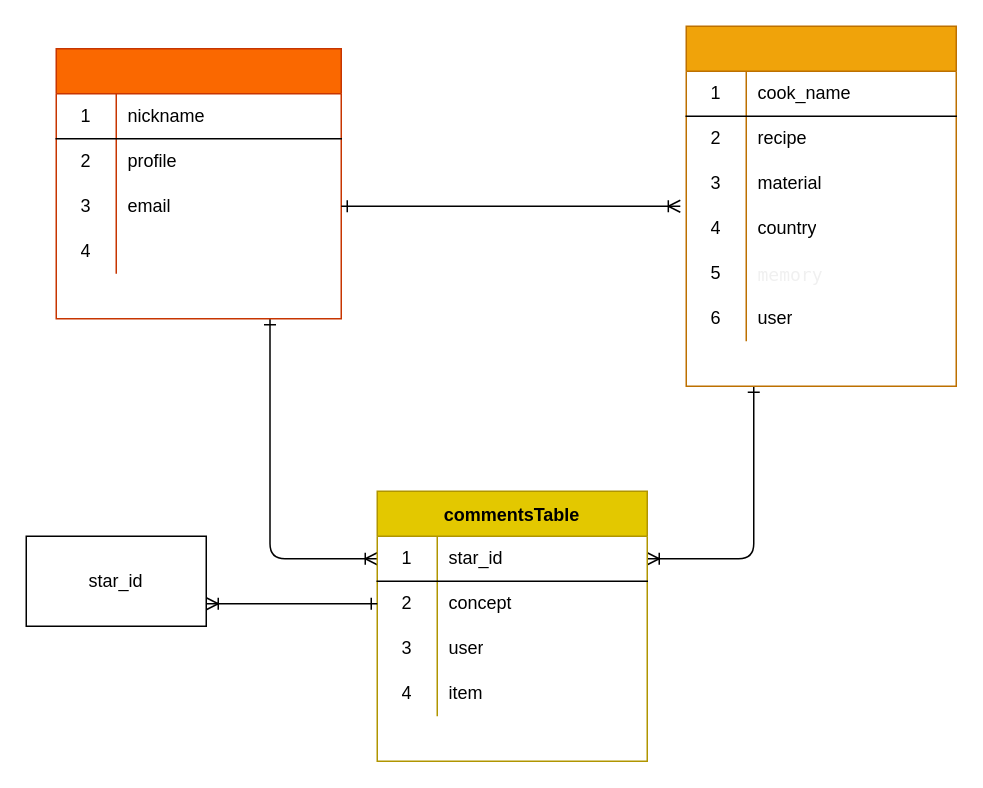
The diagram is 983 pixels wide and 788 high, and some of its shapes have lost their labels. The shapes that lost their labels are listed below. From the top down, each one's box as (x1, y1, x2, y2) in pixels, then its label:
(55, 47, 341, 319): usesTable
(685, 25, 956, 386): itemsTable
